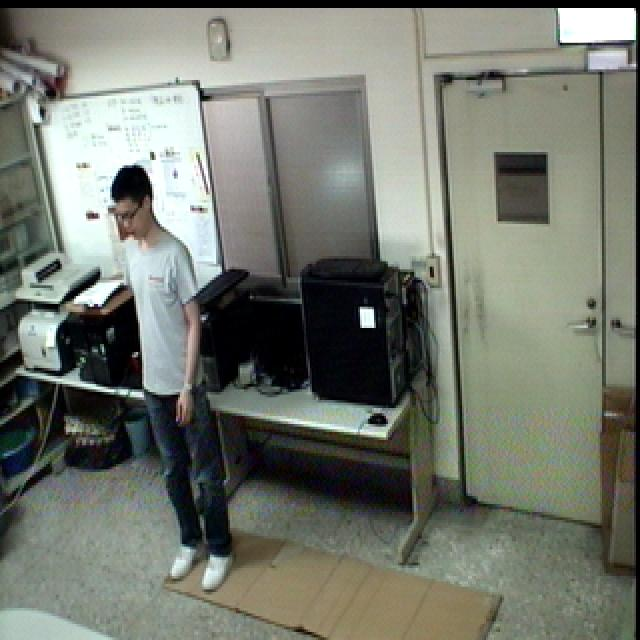stand: (106, 159, 240, 593)
